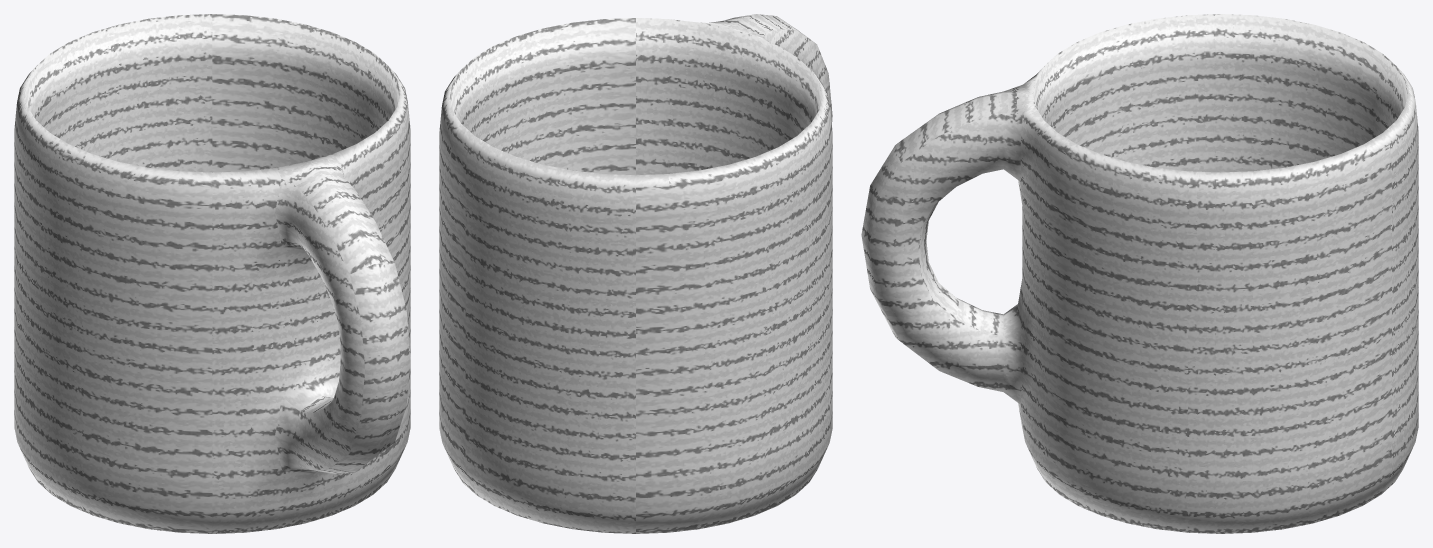
The model's file is Mug.fbx.
3 renders of one model, left to right at view 1: azimuth 30°, elevation 25°; view 2: azimuth 150°, elevation 25°; view 3: azimuth 270°, elevation 25°, orthographic.
Parts seen in each view (by area): view 1: Cylinder001; view 2: Cylinder001; view 3: Cylinder001.
Part boxes in pixels (x1,y1,x2,y2): Cylinder001: [14, 14, 410, 533]; Cylinder001: [439, 14, 832, 533]; Cylinder001: [861, 14, 1418, 533].
Bounding box in the file's own units: 34.34 × 35.51 × 48.26.
1 material, 1 textured.
